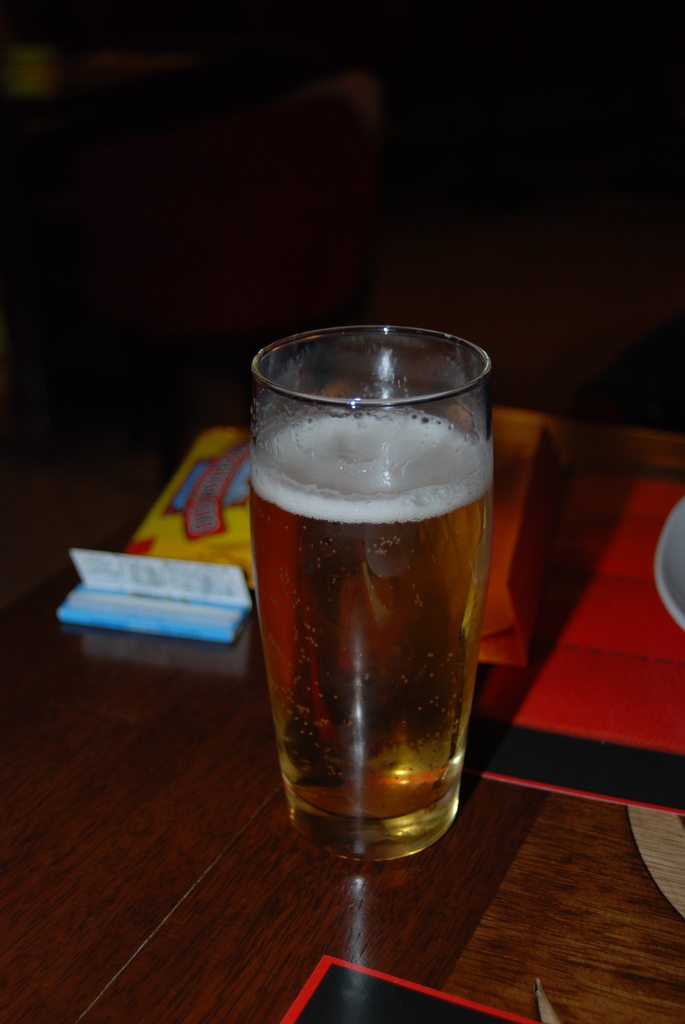Beer: (248, 407, 491, 862)
